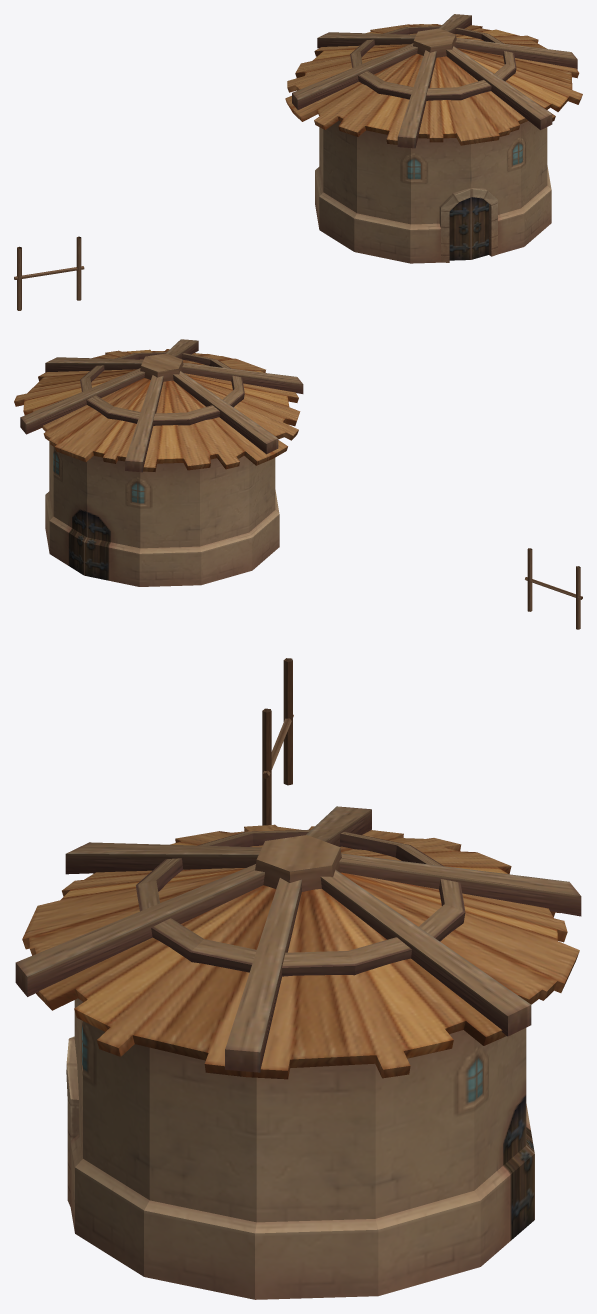
File: Area_10_3.fbx
3 views of the same model, one above another, from view 1: azimuth 30°, elevation 25°; view 2: azimuth 150°, elevation 25°; view 3: azimuth 270°, elevation 25° (orthographic). The views are drawn at different scales.
Visible parts, largest first — view 1: Area_10_3; view 2: Area_10_3; view 3: Area_10_3.
Part boxes in pixels (bbox=[...]): Area_10_3: bbox=[14, 14, 582, 310]; Area_10_3: bbox=[14, 339, 582, 629]; Area_10_3: bbox=[15, 658, 581, 1299].
Bounding box in the file's own units: 2489 × 761 × 1119.
